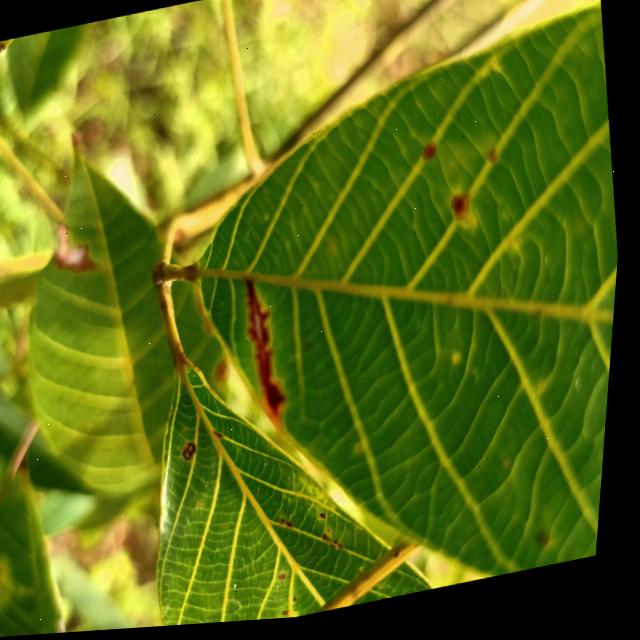Colletotrichum: (193, 445, 203, 458), (188, 452, 198, 465)
Corynespora: (239, 276, 300, 424)
